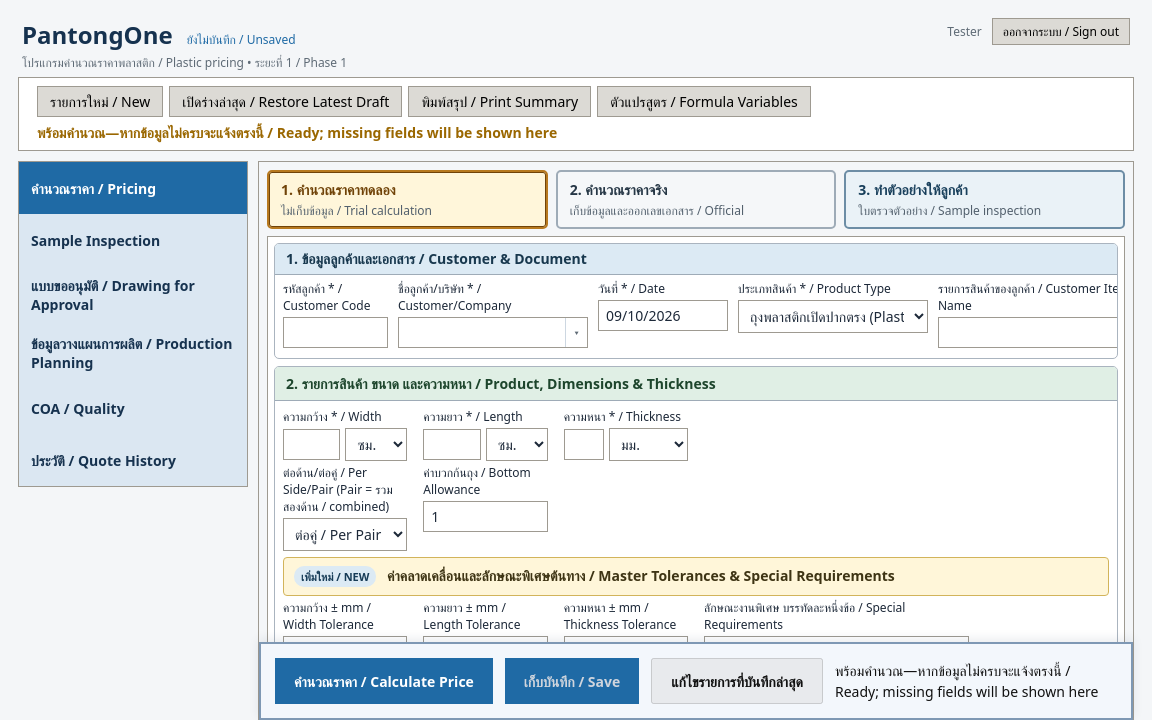
it: the price boxes and the sale basis › coverProduct_asksThicknessPerSide_modeLocked
Step 1. Select "Product Cover — PE ทั้งใบ เปิดด้านบน" in the dropdown below "ประเภทสินค้า * / Product Type" → (833, 316), box [738,300,928,332]
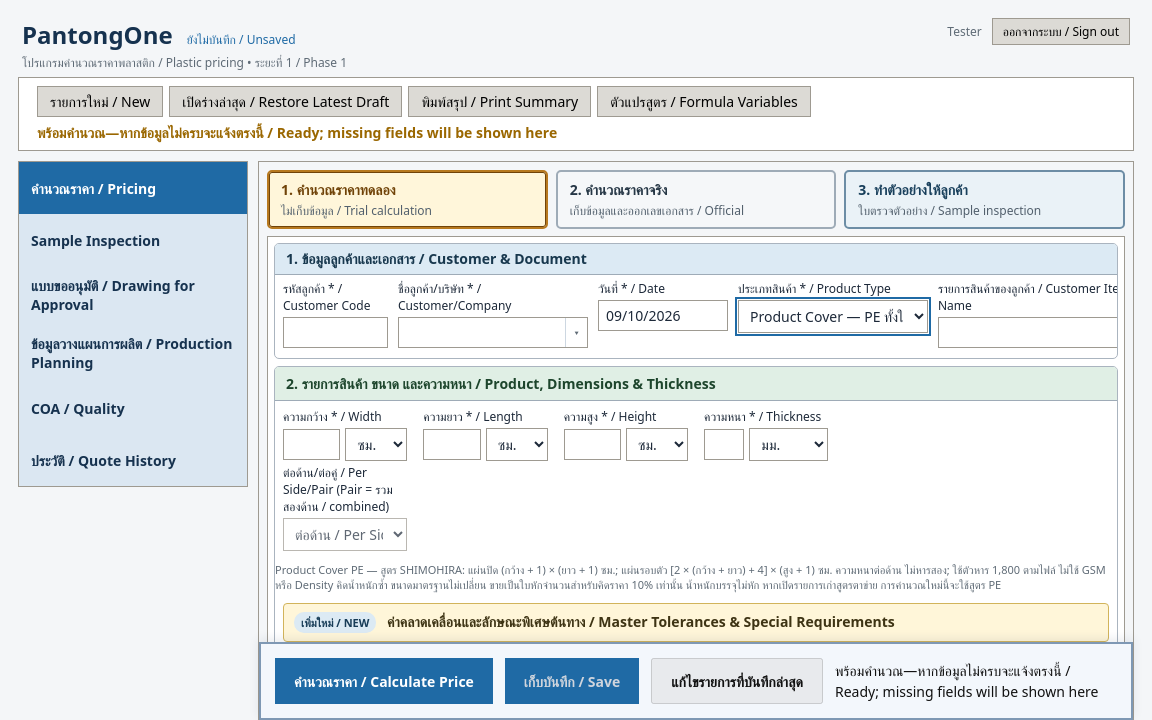
Now the text "ความสูง * / Height" is shown, box [564,408,656,425]
Now the 7th dropdown shows "ต่อด้าน / Per Side", box [283,518,407,551]
Now the 7th dropdown is disabled, box [283,518,407,551]
